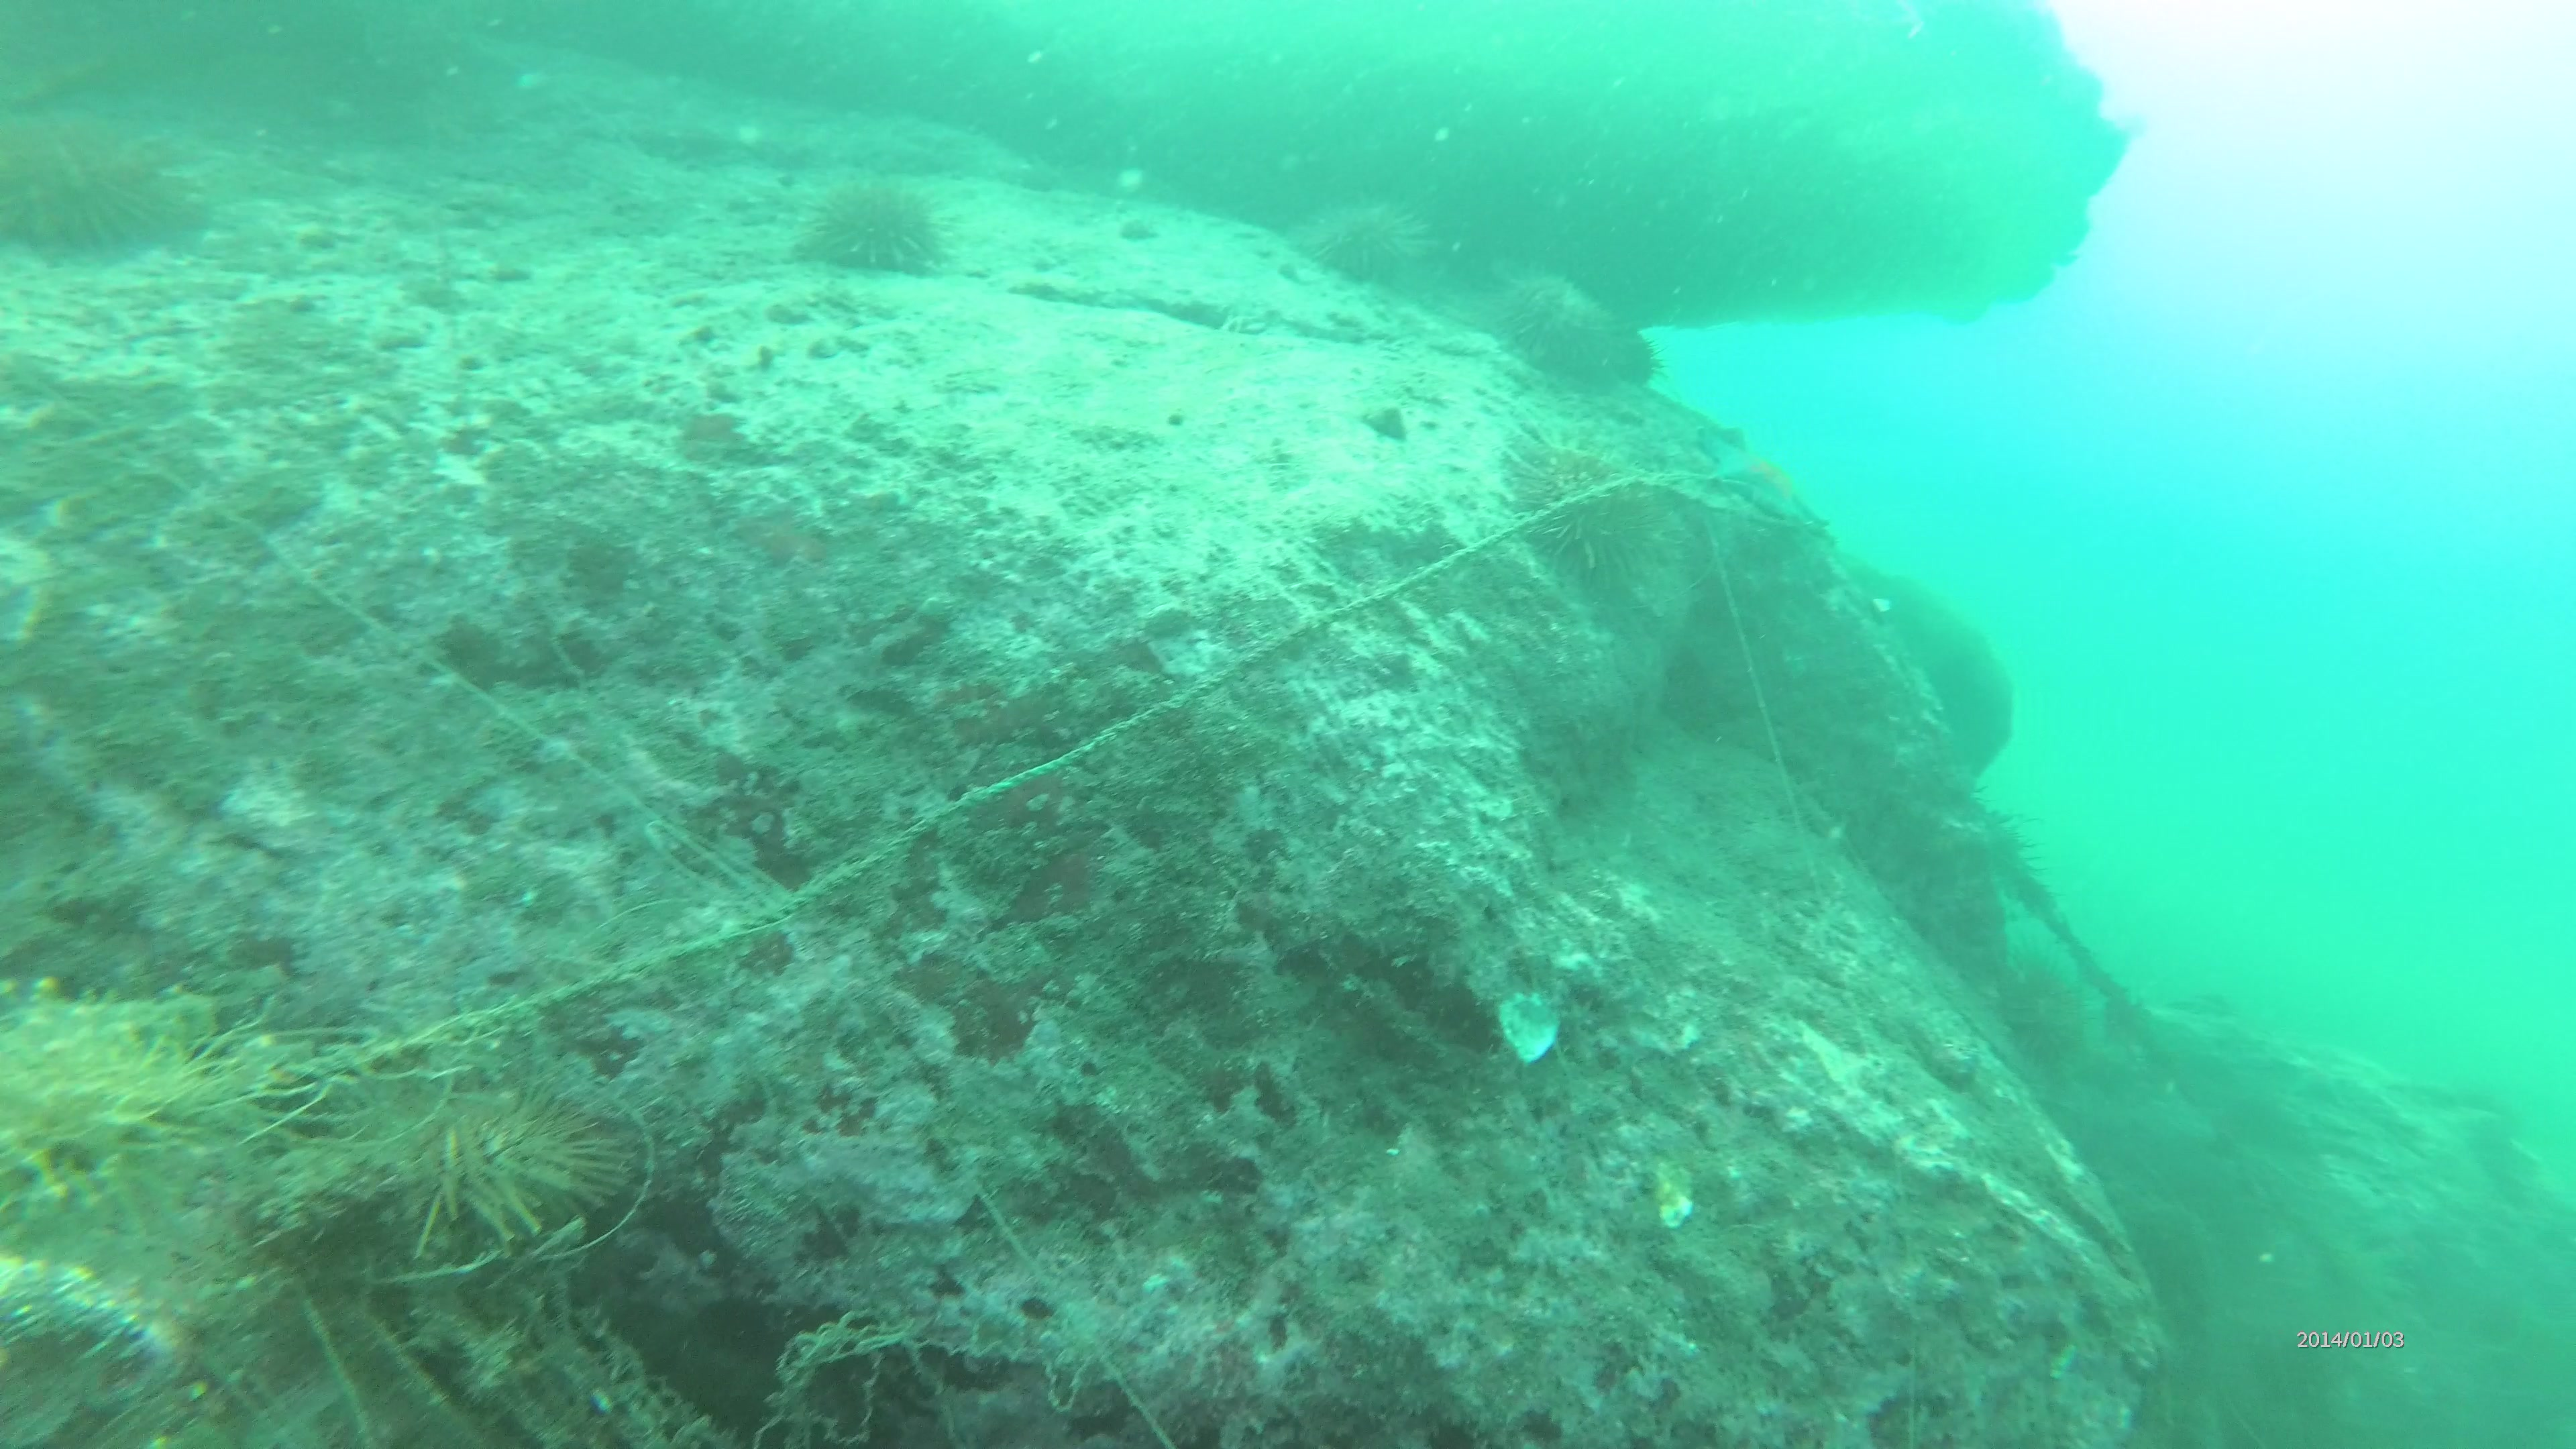echinus: (1518, 441, 1645, 593), (805, 168, 939, 278), (1491, 267, 1610, 366), (1292, 195, 1431, 278)
